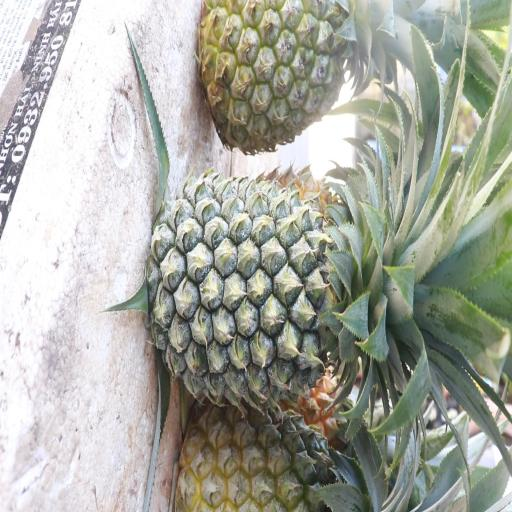------------------------------: (199, 0, 366, 154), (179, 383, 363, 512)
